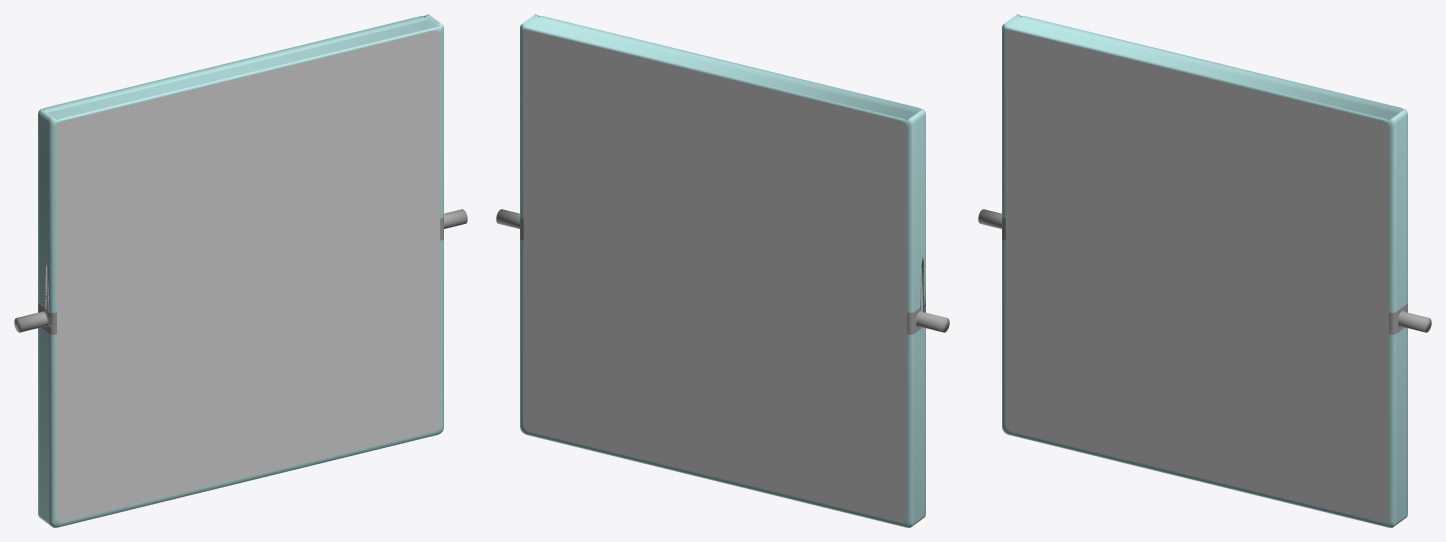
Rendered from LaserMirror.fbx.
The picture shows the model from 3 angles, left to right: view 1: azimuth 30°, elevation 25°; view 2: azimuth 150°, elevation 25°; view 3: azimuth 330°, elevation 25°; orthographic projection.
Parts seen in each view (by area): view 1: Mirror; view 2: Mirror; view 3: Mirror.
Part boxes in pixels (bbox=[...]): Mirror: bbox=[14, 14, 467, 527]; Mirror: bbox=[496, 14, 949, 527]; Mirror: bbox=[978, 14, 1431, 527].
Bounding box in the file's own units: 170 × 150 × 10.
